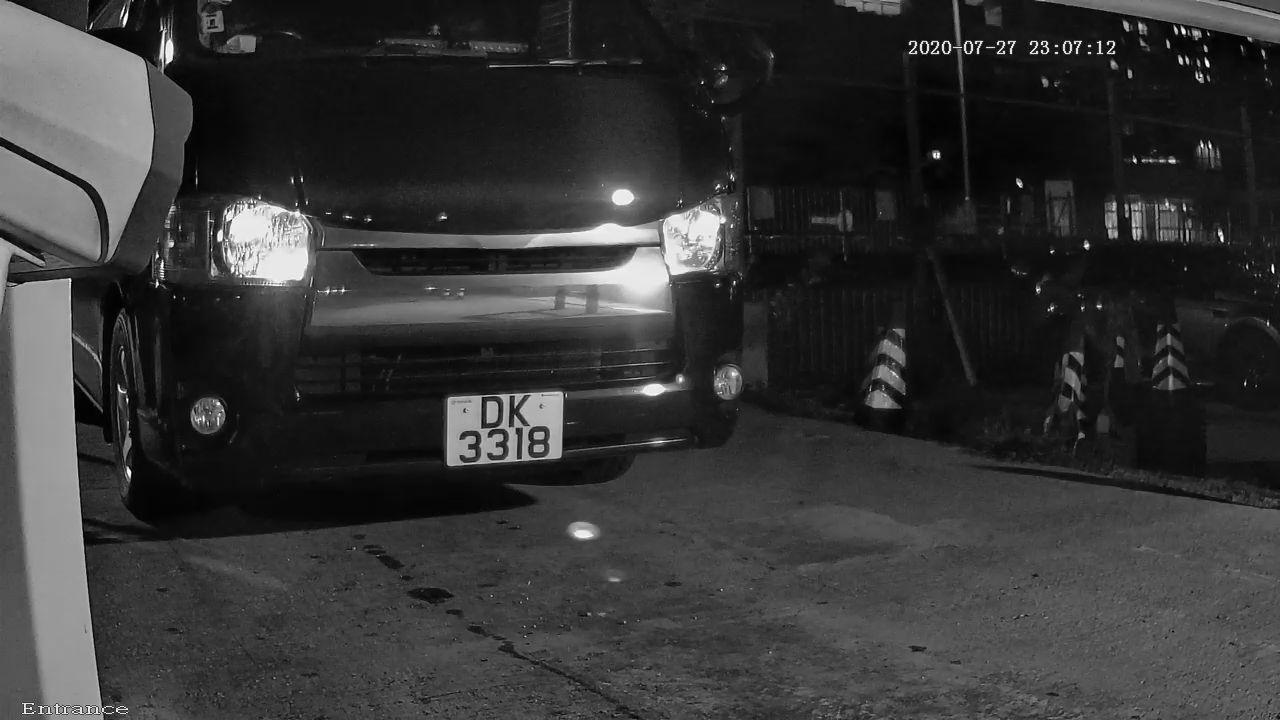privatecar: (1, 26, 875, 621)
